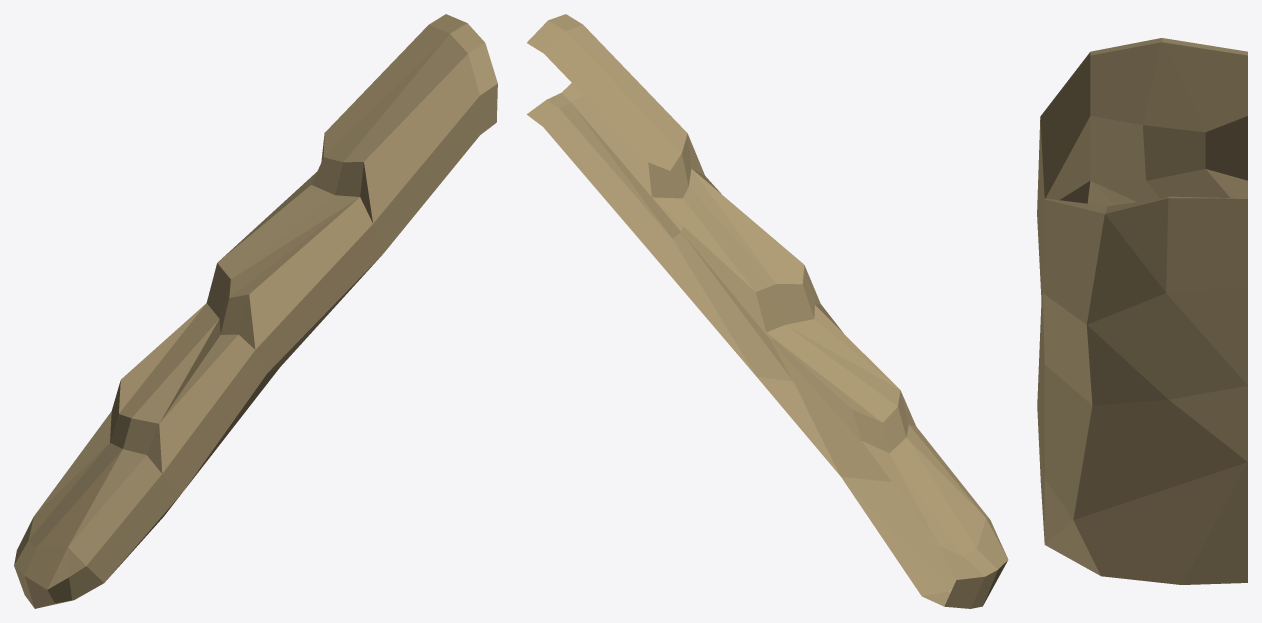
The model's file is rpgpp_ag_roof_02_6x3x3_end_01_half.fbx.
The picture shows the model from 3 angles, left to right: view 1: azimuth 30°, elevation 25°; view 2: azimuth 150°, elevation 25°; view 3: azimuth 270°, elevation 25°; orthographic projection. The views are drawn at different scales.
Visible parts, largest first — view 1: rpgpp_ag_roof_02_6x3x3_end_01_half; view 2: rpgpp_ag_roof_02_6x3x3_end_01_half; view 3: rpgpp_ag_roof_02_6x3x3_end_01_half.
Boxes of the visible parts, x1,y1,x2,y2 form: rpgpp_ag_roof_02_6x3x3_end_01_half: (14, 14, 497, 608); rpgpp_ag_roof_02_6x3x3_end_01_half: (527, 14, 1008, 608); rpgpp_ag_roof_02_6x3x3_end_01_half: (1037, 38, 1247, 584).
Bounding box in the file's own units: 4.05 × 4.17 × 0.8302.
